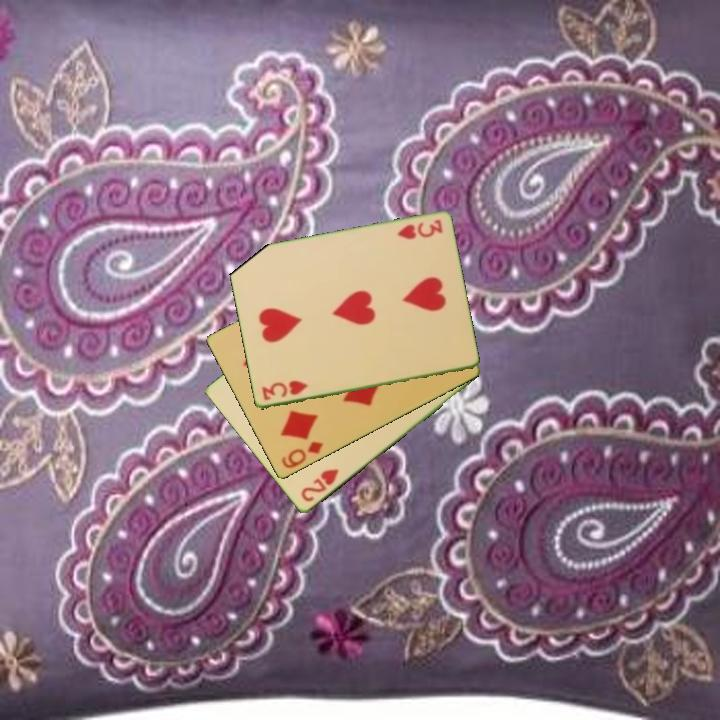2h: (297, 465, 341, 505)
3h: (258, 377, 311, 404), (393, 216, 445, 243)
6d: (278, 438, 326, 472)
